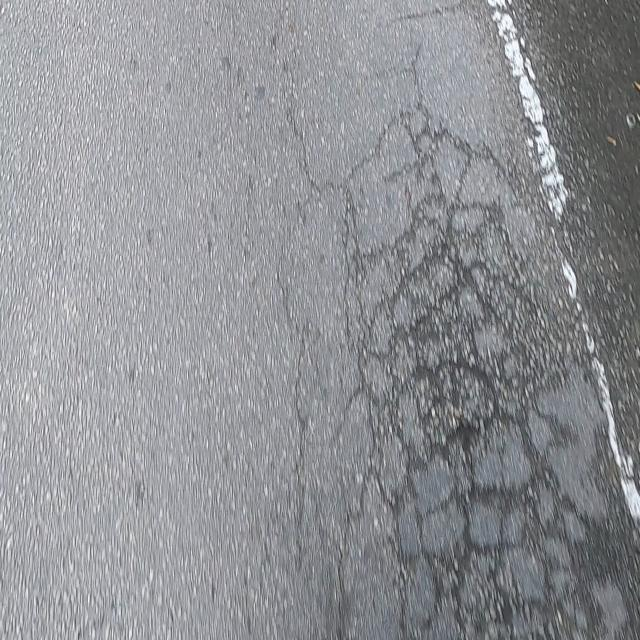Retak-Buaya: (341, 98, 627, 640)
